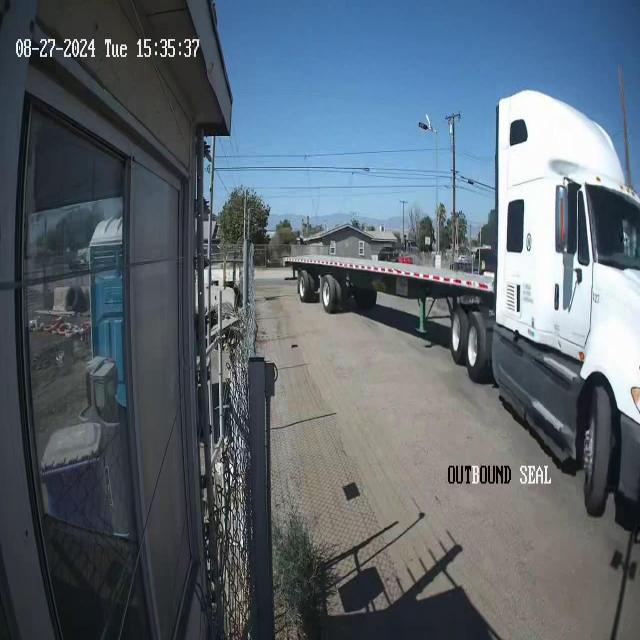BOBTAIL: (281, 86, 639, 517)
